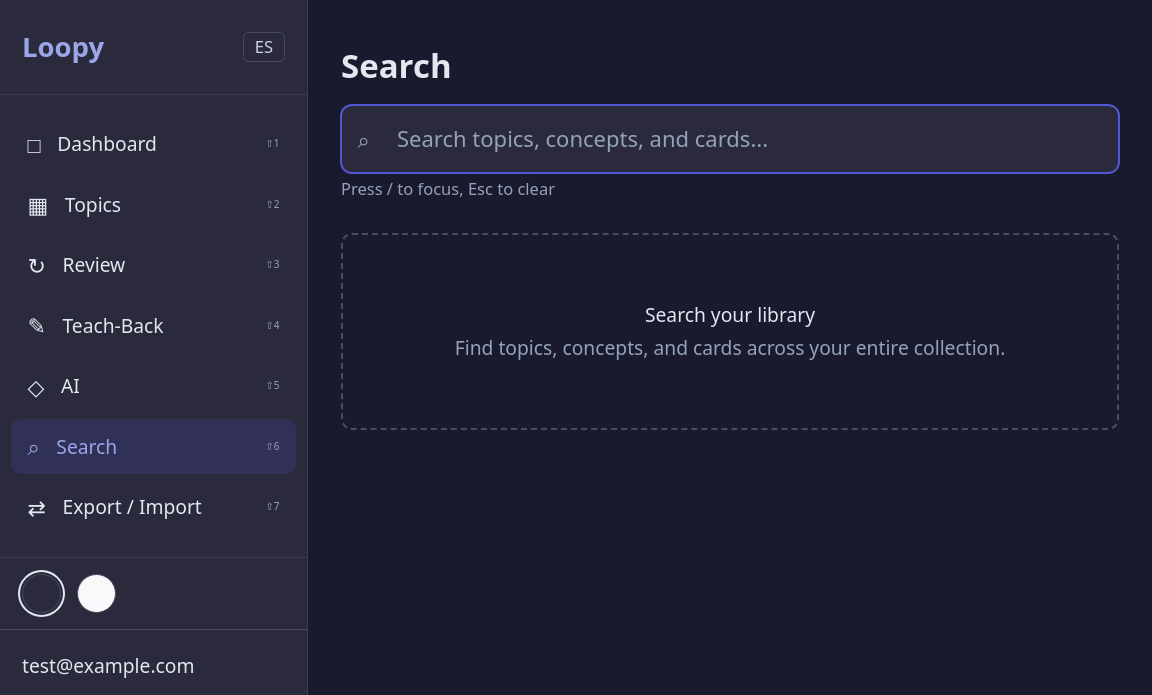
Test: E2E-style Integration Tests › Search flow -> type query -> see results › searches and finds cards
expect the heading "Search" is shown: met, box [341, 43, 452, 88]
In the field with placeholder "Search topics, concepts, and cards...": (730, 138) [341, 104, 1119, 172], type "closure"
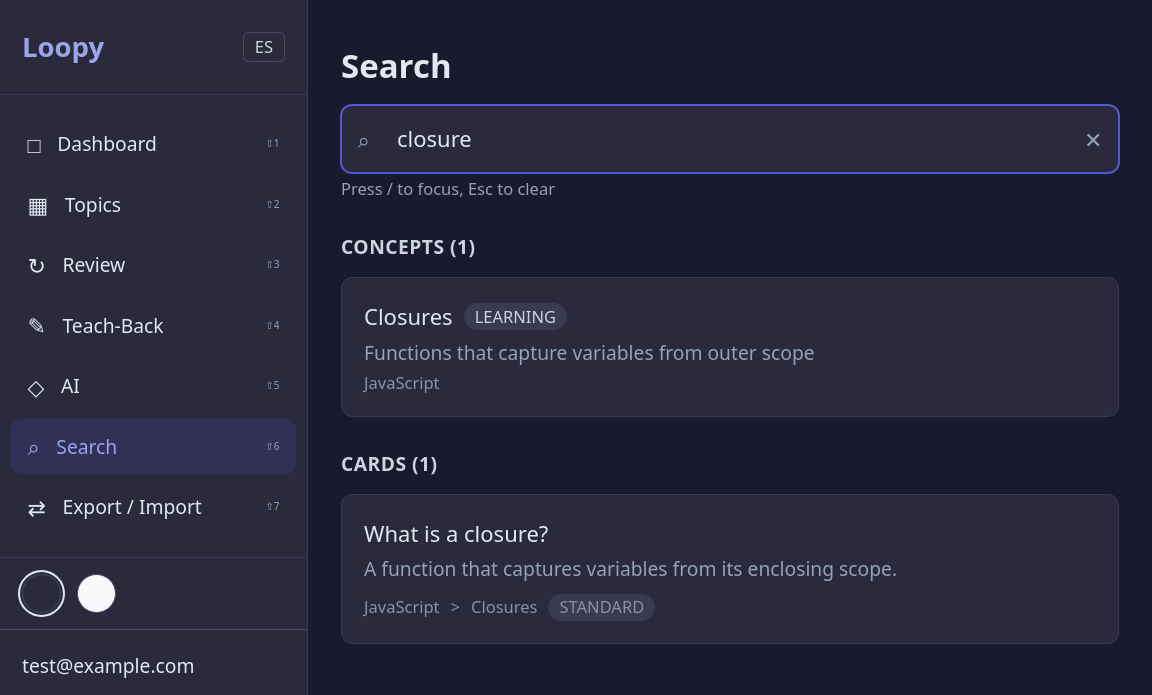
expect the heading "Cards (1)" is shown: met, box [341, 450, 438, 476]
